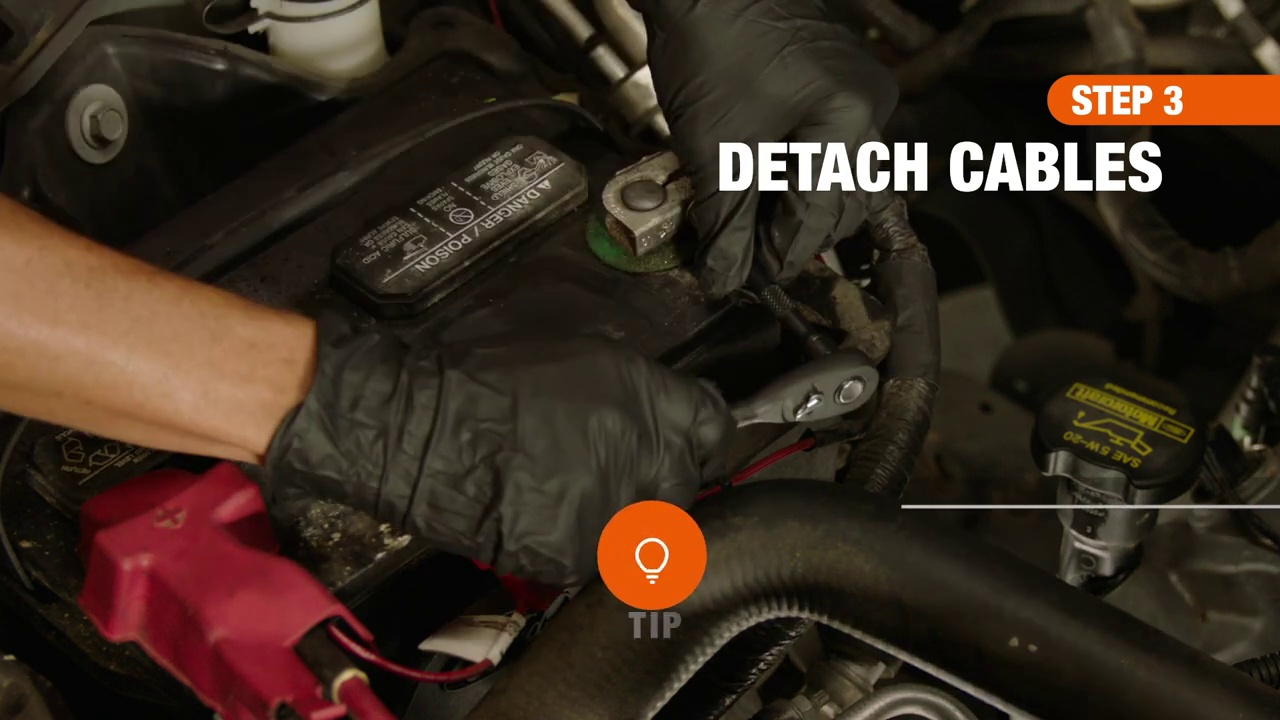battery: (29, 74, 768, 709)
neg_connected: (594, 110, 720, 299)
neg_touched: (603, 100, 860, 321)
pos_connected: (68, 447, 316, 697)
pos_touched: (87, 335, 351, 690)
